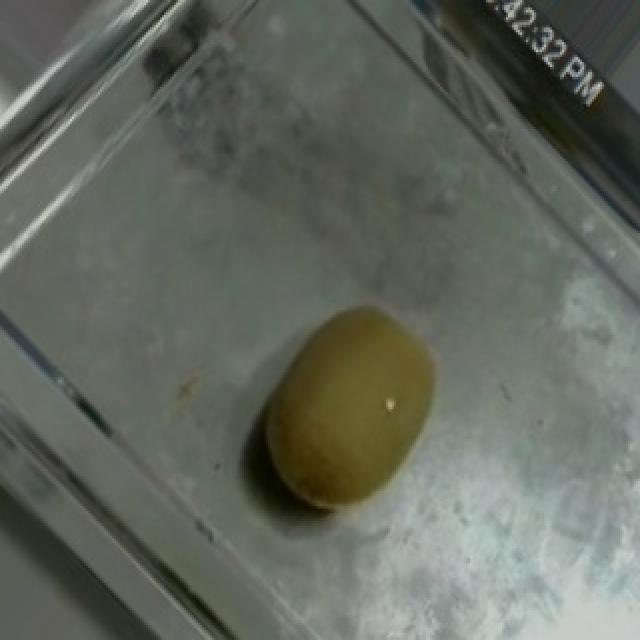Fruit: (220, 271, 482, 544)
